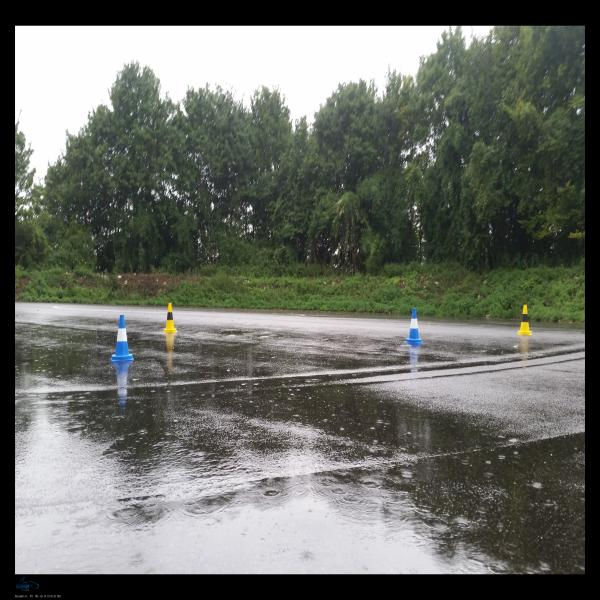blue_cone: (110, 315, 134, 362), (405, 308, 423, 344)
yellow_cone: (163, 303, 177, 333), (518, 305, 532, 335)
